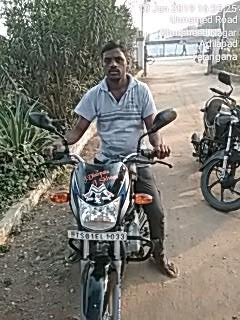plate: (65, 229, 129, 245)
